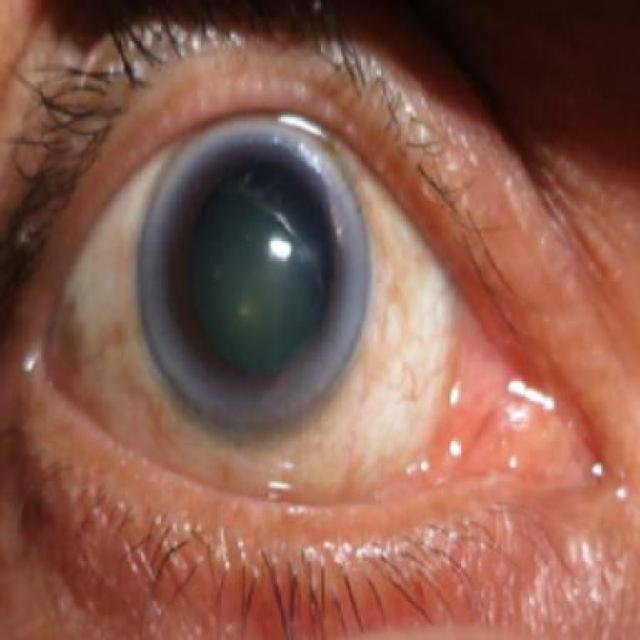Cataract: (131, 114, 374, 431)
